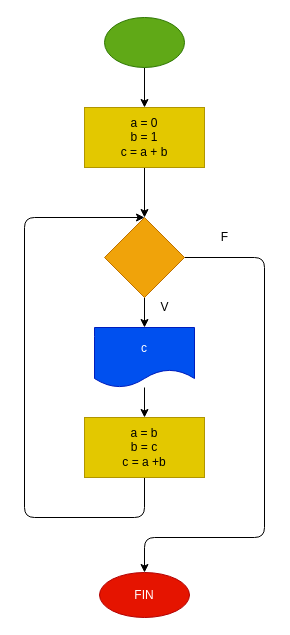
Image size: 290x635. Some labels were removed from this diagram. The centre of each missing label's shape, as x and y in pixels:
"c < 1000" belongs at pixel 144 257.
"INICIO" belongs at pixel 144 42.
